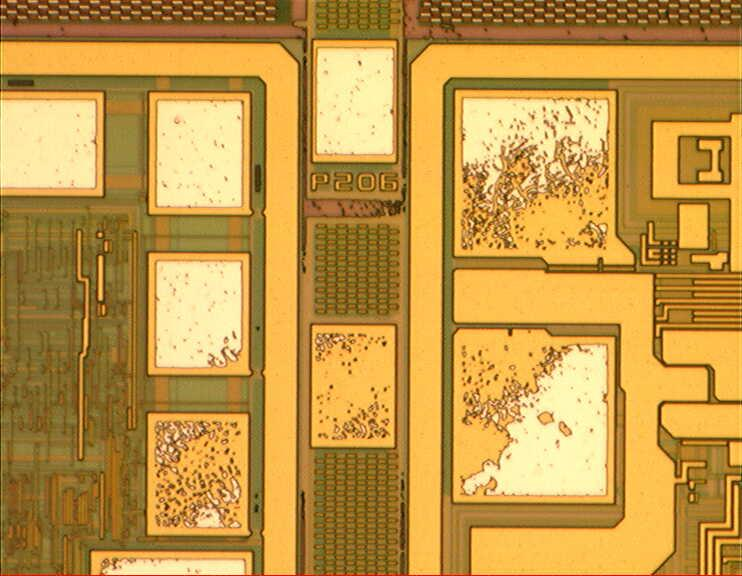SCRATCH: (75, 98, 612, 575)
